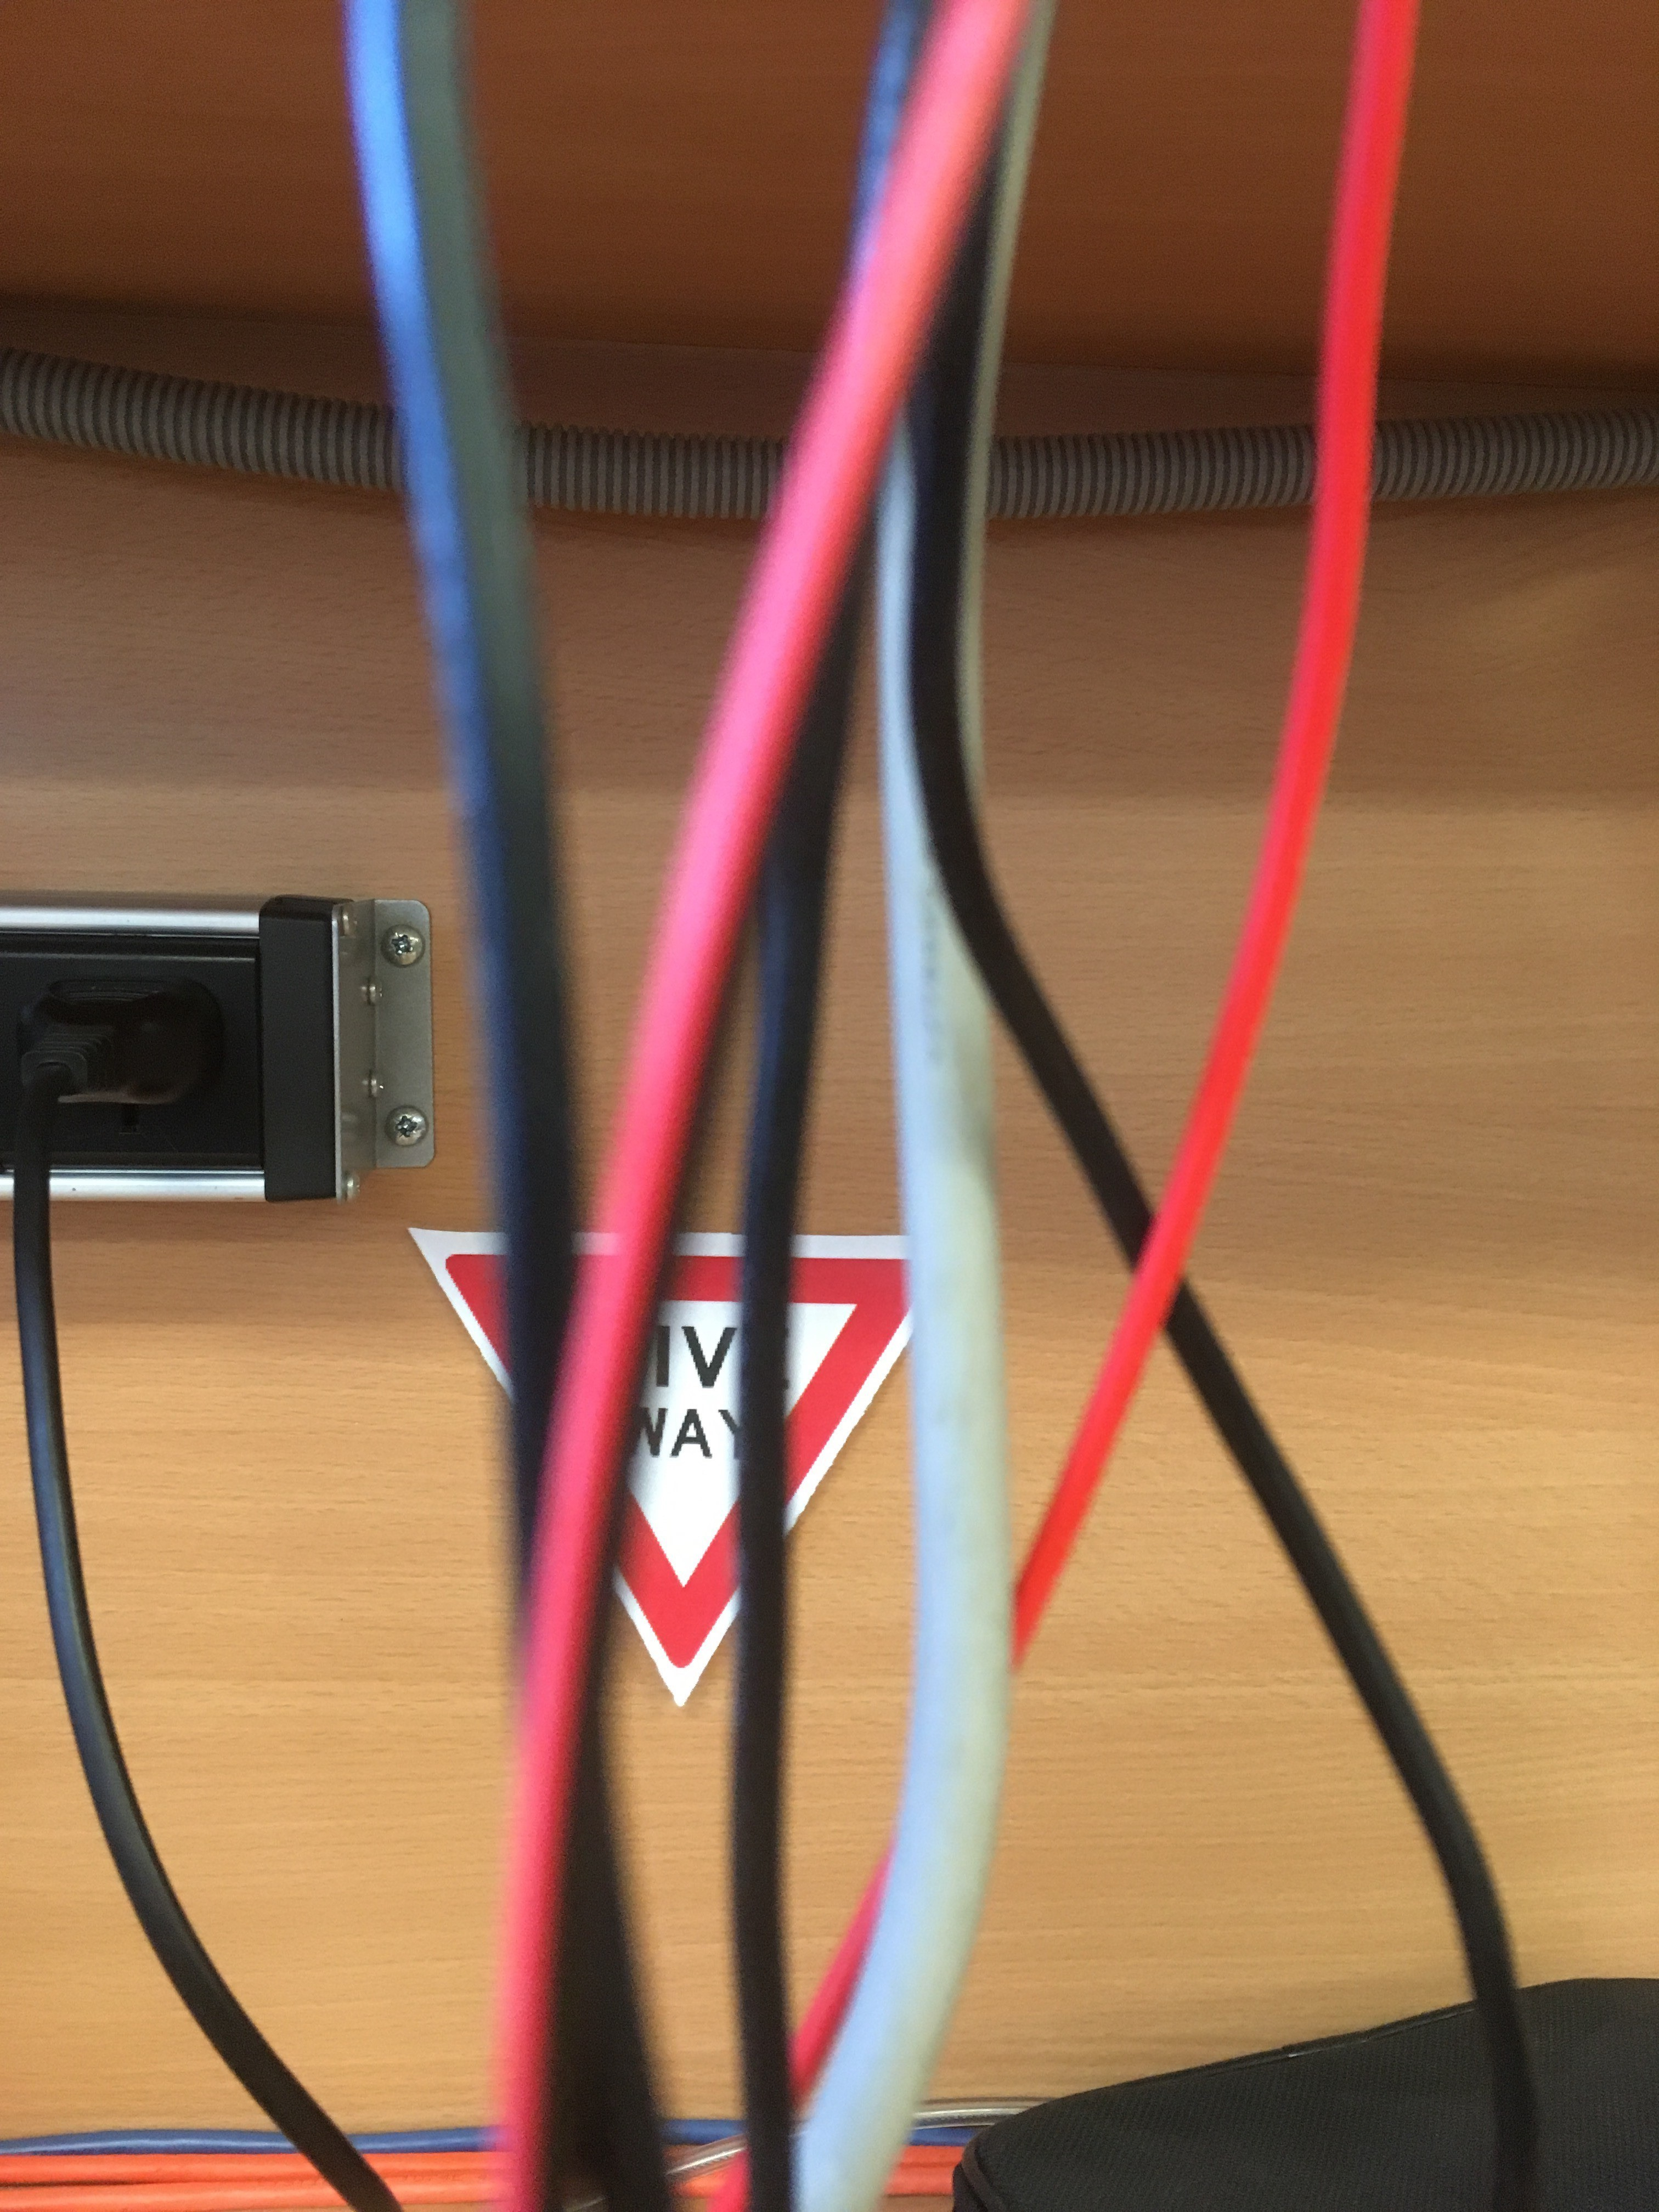giveway: (427, 1235, 910, 1693)
